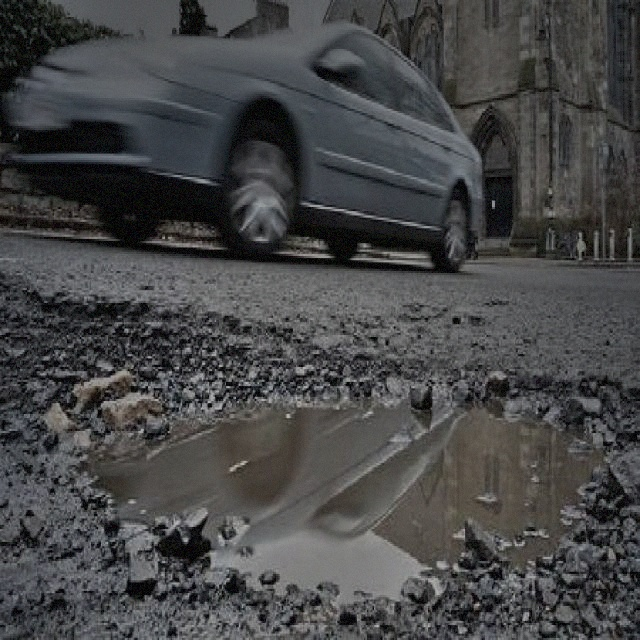pothole: (64, 335, 633, 612)
